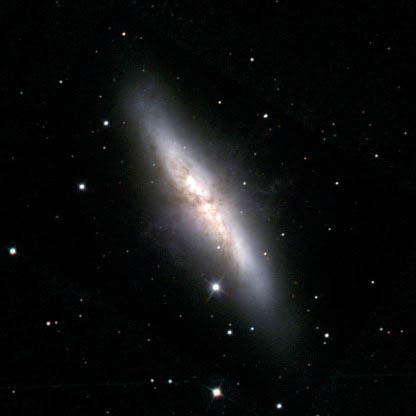Messier 82: (114, 63, 304, 353)
